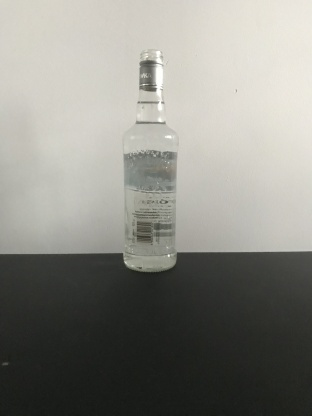nakretka: (137, 47, 165, 92)
